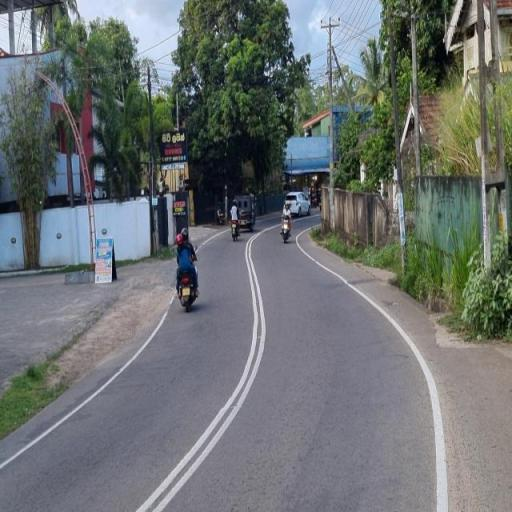double_white_line: (136, 226, 268, 510)
